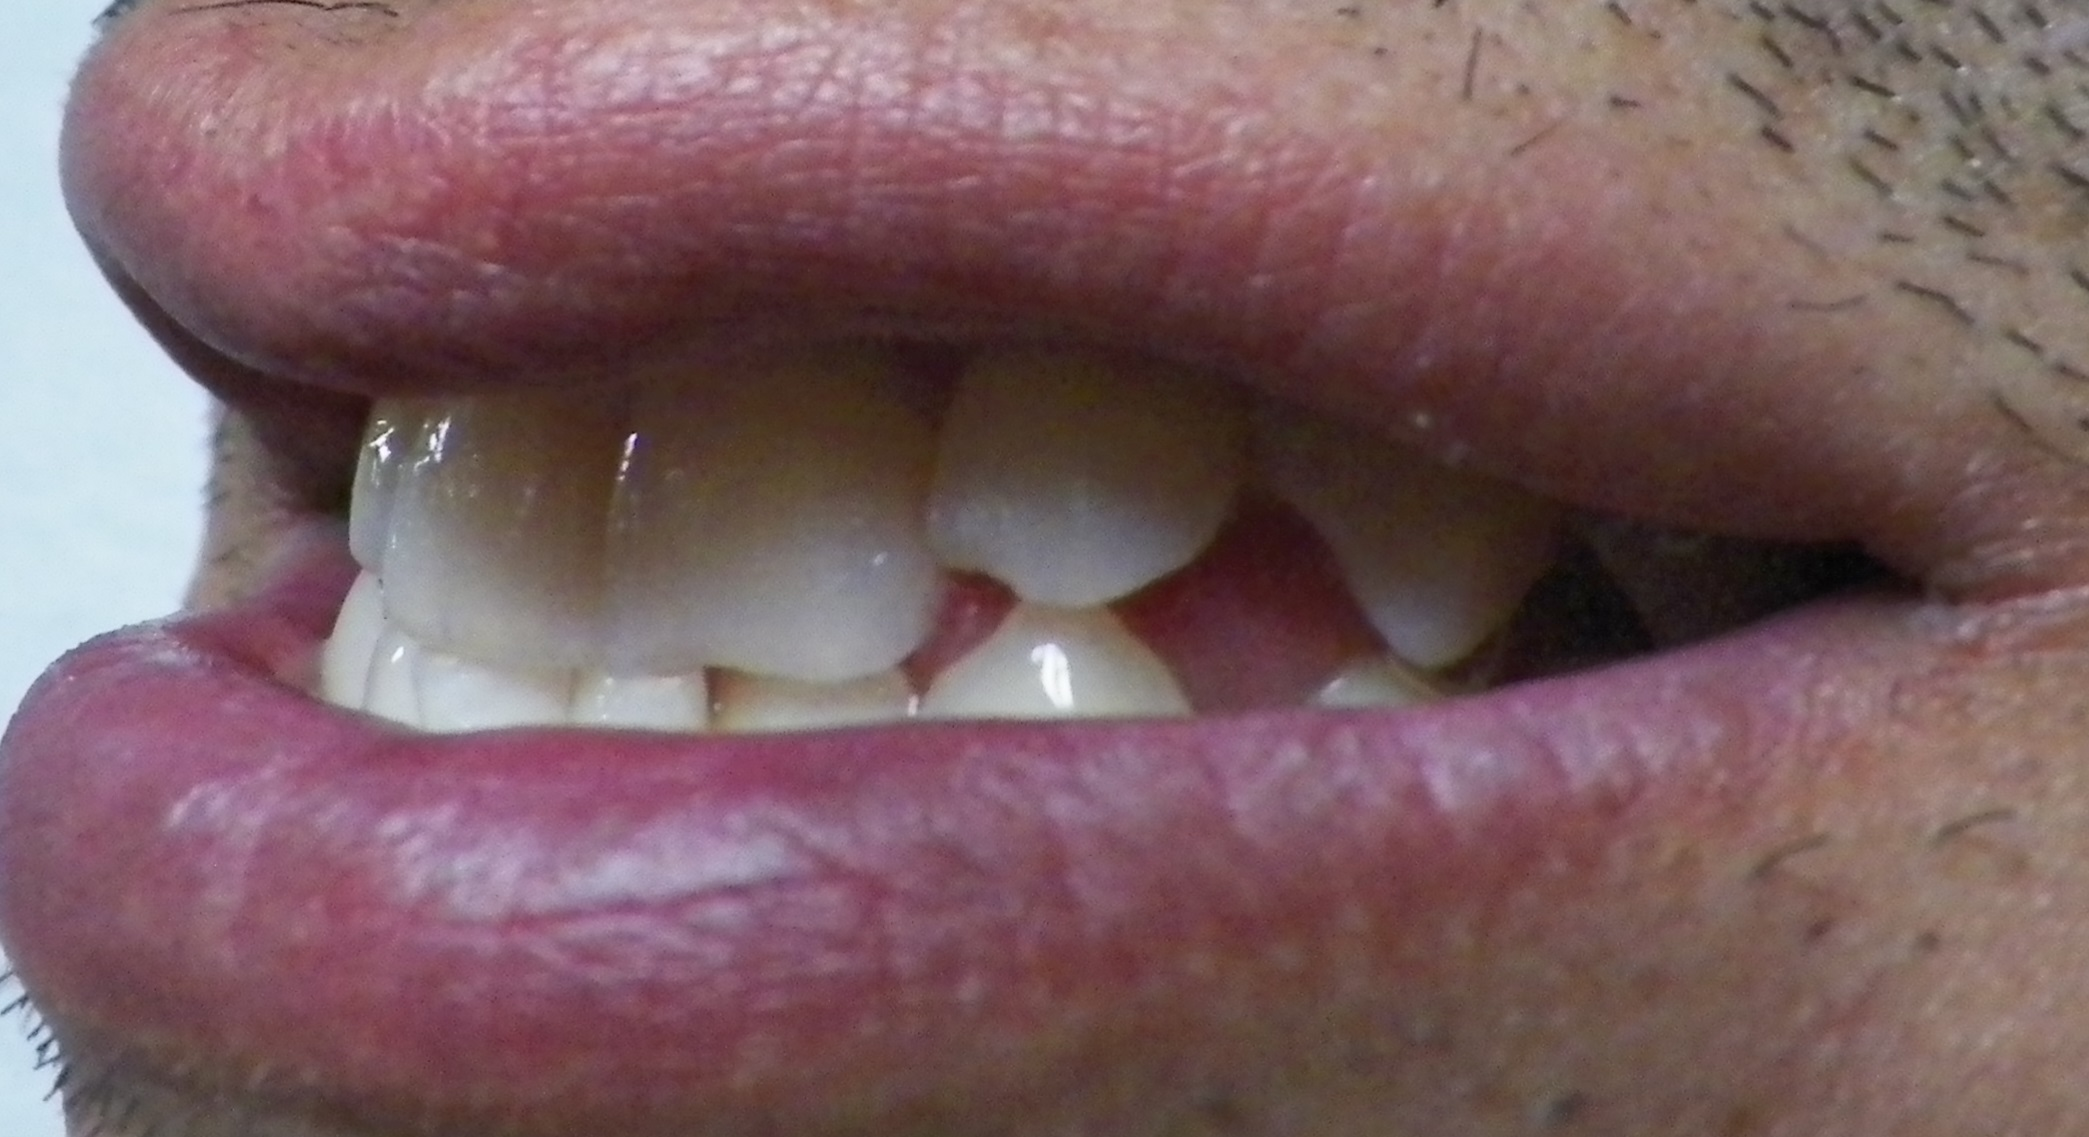boca: (322, 384, 1568, 730)
